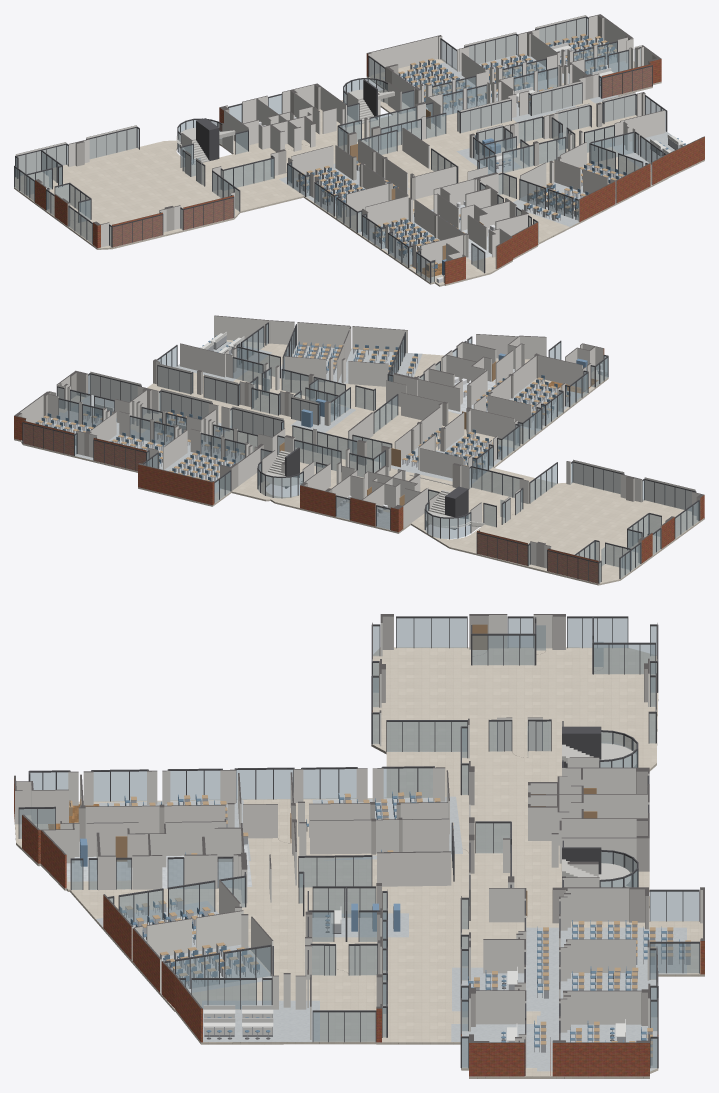
File: campus.glb
3 views of the same model, one above another, from view 1: azimuth 30°, elevation 25°; view 2: azimuth 150°, elevation 25°; view 3: azimuth 270°, elevation 25° (orthographic). The views are drawn at different scales.
Visible parts, largest first — view 1: P3_Walls, P3_Glass, P3_Floor_Slab, P3_Glass_Mullions, P3_Floor_Zones, P3_Columns, P3_Glass_Frames_Top, P3_Furniture_3_3, P3_Stair_A_West, P3_Furniture_2_1, P3_Furniture_1_1, P3_Furniture_1_2 (+5 smaller); view 2: P3_Walls, P3_Glass, P3_Floor_Slab, P3_Glass_Mullions, P3_Floor_Zones, P3_Columns, P3_Glass_Frames_Top, P3_Furniture_3_3, P3_Stair_A_West, P3_Furniture_1_2, P3_Furniture_1_1, P3_Stair_A_East (+4 smaller); view 3: P3_Floor_Slab, P3_Walls, P3_Glass, P3_Floor_Zones, P3_Columns, P3_Glass_Mullions, P3_Glass_Frames_Top, P3_Furniture_3_3, P3_Furniture_2_1, P3_Furniture_3_1, P3_Stair_A_West, P3_Furniture_2_3 (+5 smaller).
Part boxes in pixels (x1,y1,x2,y2): P3_Walls: [15, 15, 704, 284]; P3_Glass: [14, 18, 665, 282]; P3_Floor_Slab: [14, 38, 704, 286]; P3_Glass_Mullions: [14, 17, 667, 282]; P3_Floor_Zones: [279, 38, 684, 277]; P3_Columns: [35, 14, 661, 257]; P3_Glass_Frames_Top: [14, 16, 666, 262]; P3_Furniture_3_3: [428, 33, 616, 103]; P3_Stair_A_West: [176, 118, 235, 164]; P3_Furniture_2_1: [459, 173, 588, 222]; P3_Furniture_1_1: [372, 217, 464, 275]; P3_Furniture_1_2: [296, 160, 414, 216]; P3_Walls: [17, 315, 700, 583]; P3_Glass: [23, 324, 698, 583]; P3_Floor_Slab: [14, 340, 704, 585]; P3_Glass_Mullions: [22, 323, 699, 583]; P3_Floor_Zones: [21, 341, 598, 529]; P3_Columns: [14, 353, 704, 567]; P3_Glass_Frames_Top: [23, 322, 699, 563]; P3_Furniture_3_3: [35, 404, 211, 472]; P3_Stair_A_West: [426, 486, 484, 529]; P3_Furniture_1_2: [402, 428, 501, 472]; P3_Furniture_1_1: [476, 358, 587, 422]; P3_Stair_A_East: [266, 447, 303, 488]; P3_Floor_Slab: [14, 647, 704, 1078]; P3_Walls: [14, 614, 704, 1076]; P3_Glass: [19, 618, 699, 1068]; P3_Floor_Zones: [48, 796, 686, 1071]; P3_Columns: [78, 614, 650, 1076]; P3_Glass_Mullions: [18, 616, 699, 1075]; P3_Glass_Frames_Top: [19, 616, 699, 1044]; P3_Furniture_3_3: [501, 952, 690, 1065]; P3_Furniture_2_1: [80, 838, 247, 965]; P3_Furniture_3_1: [166, 954, 245, 1039]; P3_Stair_A_West: [562, 726, 636, 767]; P3_Furniture_2_3: [537, 920, 690, 956].
Size of the model in its own units: 77.07 by 4.04 by 52.46.
Materials: 21 (5 with a texture image).
